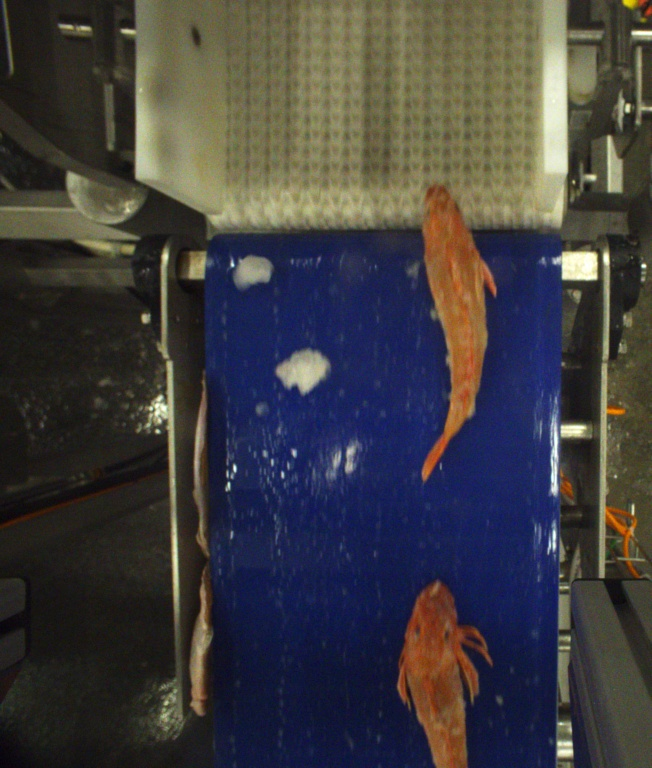GUU: (402, 580, 491, 768)
